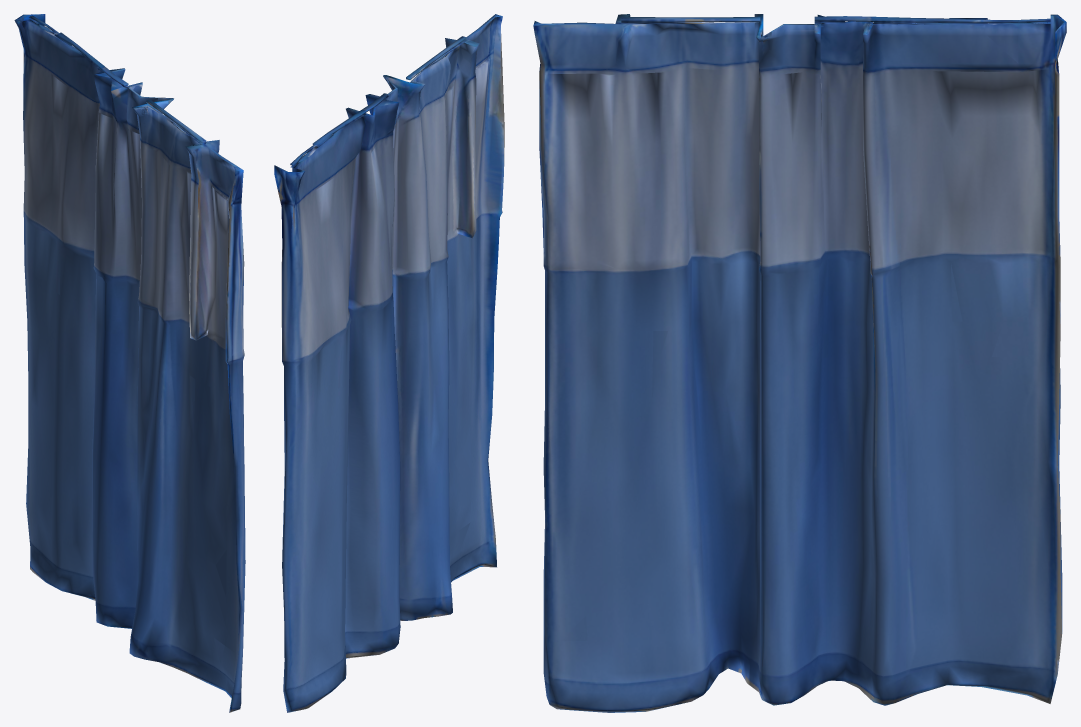
Rendered from curtain.fbx.
3 views of the same model, side by side, from view 1: azimuth 30°, elevation 25°; view 2: azimuth 150°, elevation 25°; view 3: azimuth 270°, elevation 25° (orthographic). The views are drawn at different scales.
Visible parts, largest first — view 1: tripo_node_ba876086; view 2: tripo_node_ba876086; view 3: tripo_node_ba876086.
Boxes of the visible parts, x1=… form: tripo_node_ba876086: x1=14, y1=14, x2=245, y2=712; tripo_node_ba876086: x1=274, y1=14, x2=504, y2=712; tripo_node_ba876086: x1=533, y1=14, x2=1066, y2=712.
Bounding box in the file's own units: 10.04 × 94.36 × 66.43.
1 material, 1 textured.
